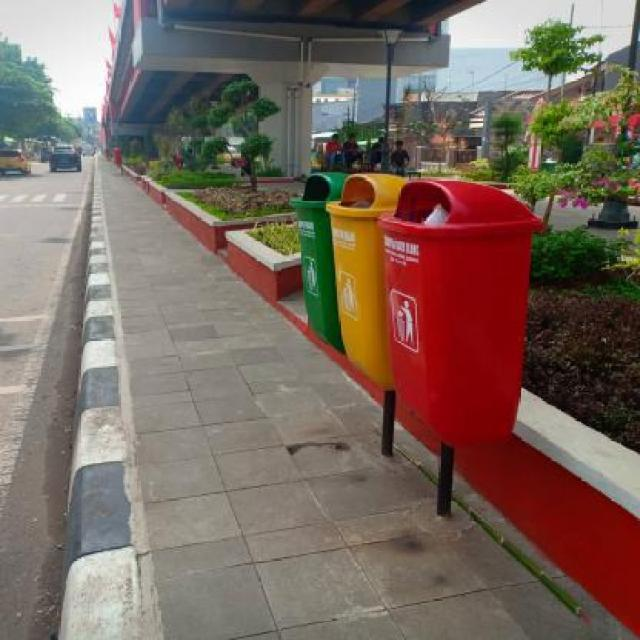garbage container: (373, 179, 558, 459), (329, 169, 391, 388), (290, 167, 347, 358)
